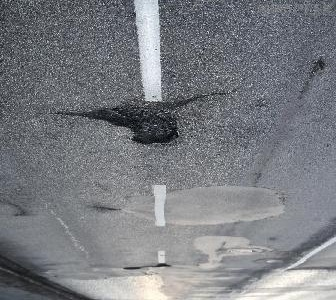pothole: (88, 99, 183, 146), (153, 261, 171, 270), (122, 266, 142, 272)
